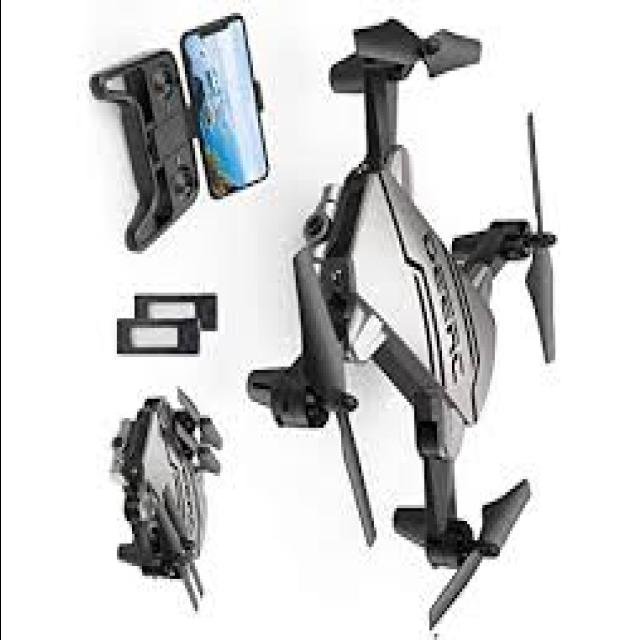drone: (243, 0, 569, 640)
